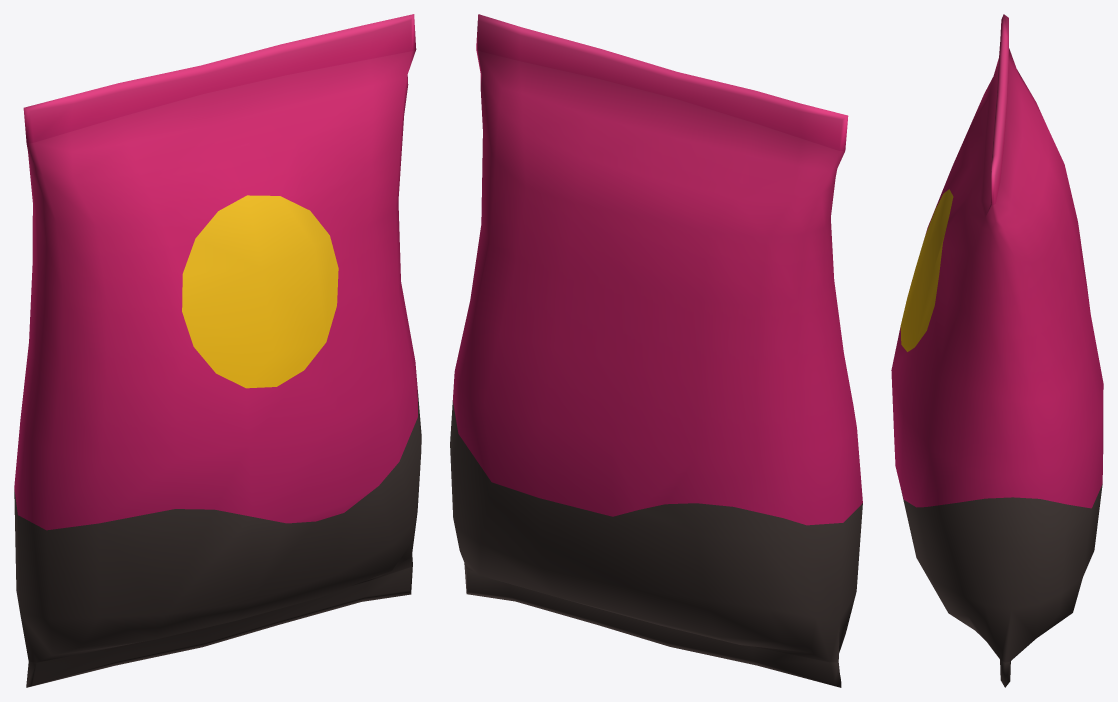
Rendered from chips_012.fbx.
3 views of the same model, side by side, from view 1: azimuth 30°, elevation 25°; view 2: azimuth 150°, elevation 25°; view 3: azimuth 270°, elevation 25° (orthographic). The views are drawn at different scales.
Visible parts, largest first — view 1: chips_012; view 2: chips_012; view 3: chips_012.
Boxes of the visible parts, left/top/right/bottom form: chips_012: left=14, top=14, right=421, bottom=687; chips_012: left=450, top=14, right=862, bottom=687; chips_012: left=891, top=14, right=1103, bottom=687.
Bounding box in the file's own units: 16.12 × 8.65 × 23.18.
